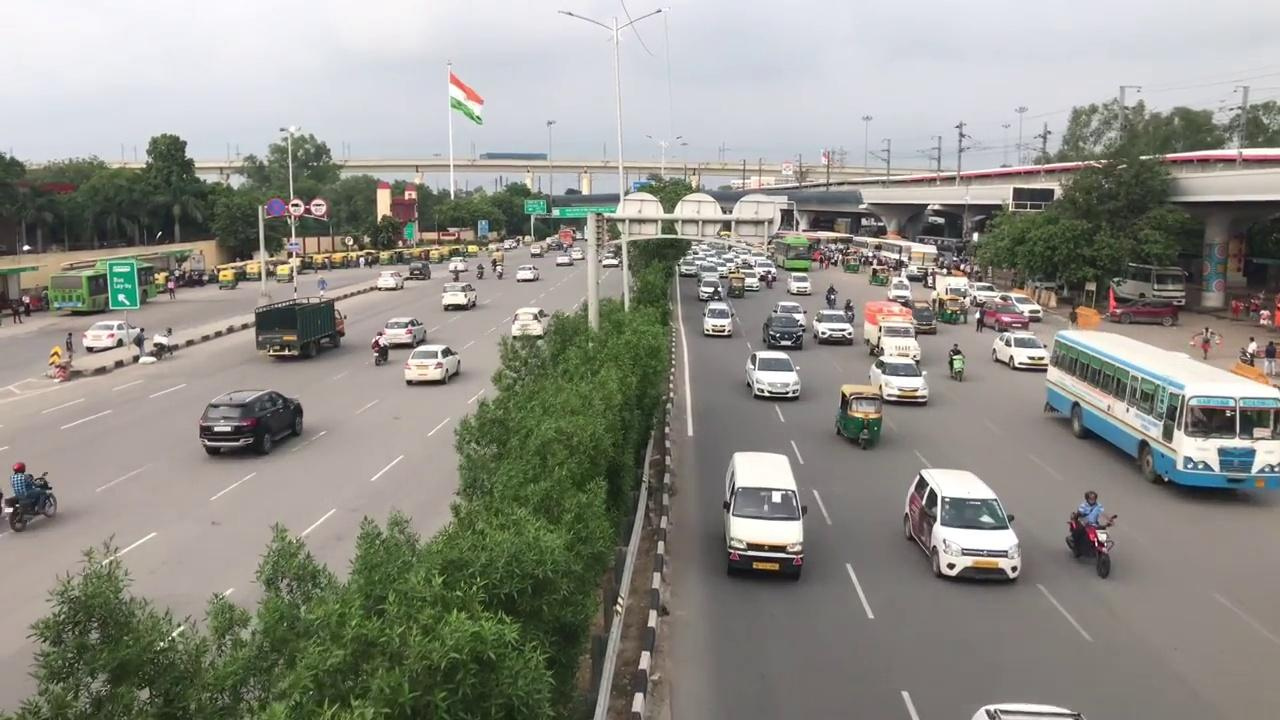Auto: (836, 383, 883, 448)
Bike: (1068, 483, 1116, 580), (948, 341, 966, 382)
Bus: (1047, 319, 1280, 498)
Car: (906, 463, 1022, 584), (747, 349, 801, 402), (403, 343, 461, 386), (990, 331, 1051, 370), (761, 310, 804, 348), (814, 308, 854, 345), (381, 317, 427, 348), (702, 299, 733, 340)
Truck: (254, 295, 346, 358), (861, 299, 922, 363), (868, 353, 931, 404)
